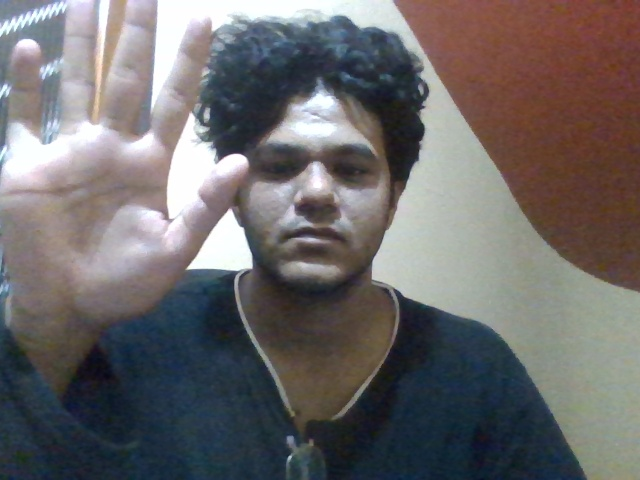hello: (1, 1, 243, 336)
